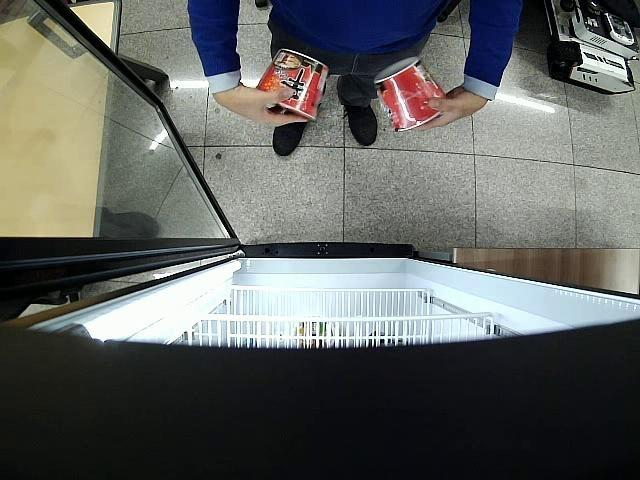01_ShinRamen_L: (374, 56, 448, 132), (256, 50, 328, 121)
